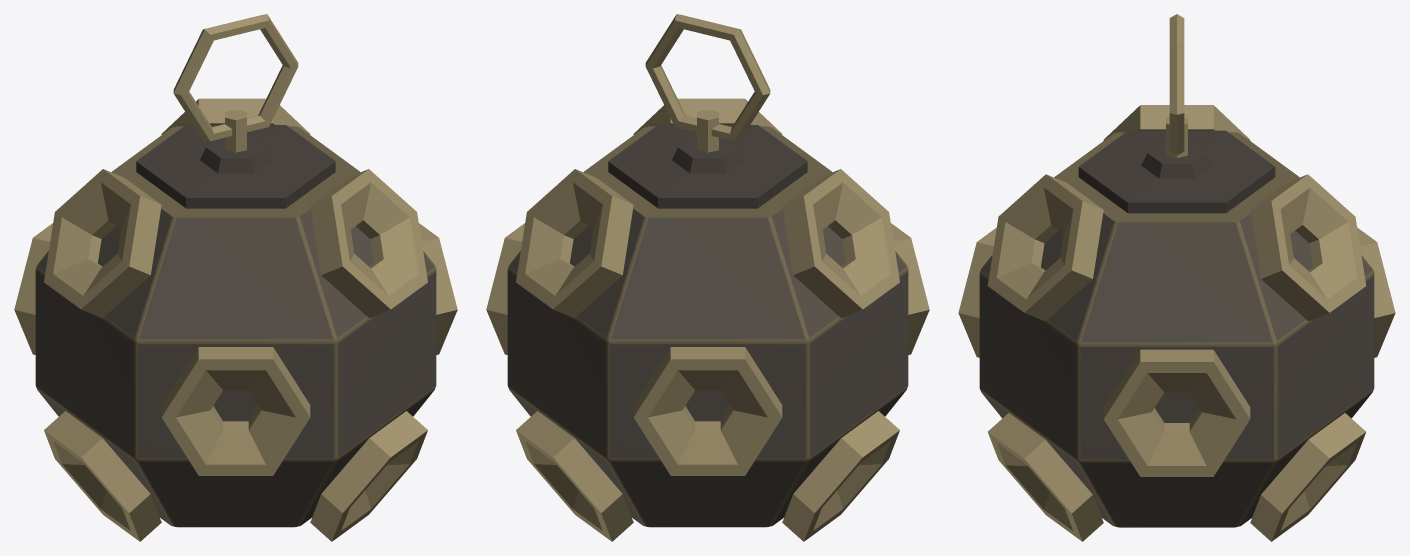
The model's file is MineA.fbx.
3 renders of one model, left to right at view 1: azimuth 30°, elevation 25°; view 2: azimuth 150°, elevation 25°; view 3: azimuth 270°, elevation 25°, orthographic.
Parts seen in each view (by area): view 1: pCylinder1; view 2: pCylinder1; view 3: pCylinder1.
Part boxes in pixels (left/top/right/bottom): pCylinder1: left=14, top=14, right=457, bottom=541; pCylinder1: left=486, top=14, right=929, bottom=541; pCylinder1: left=958, top=14, right=1395, bottom=541.
Size of the model in its own units: 1.95 by 2.49 by 2.09.
